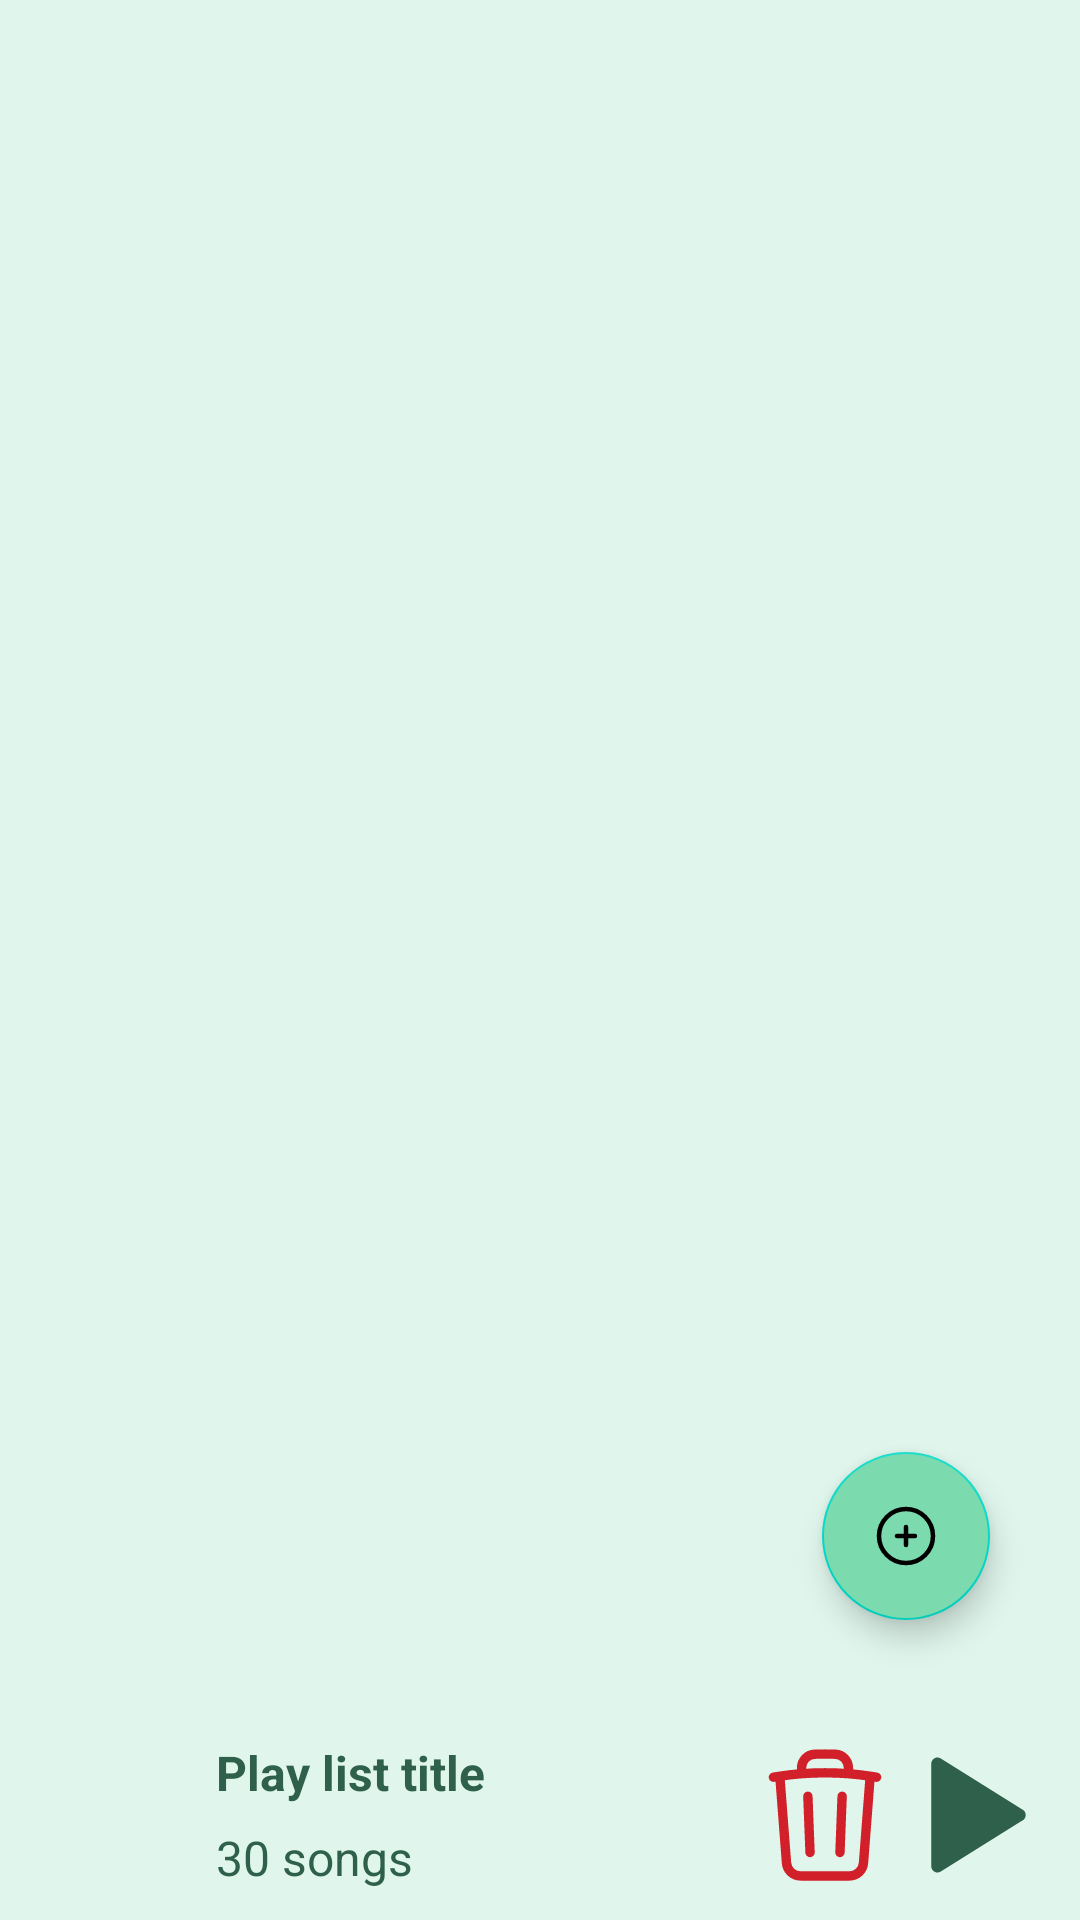

Where to tap for icons on this 1080x1920 app screen, as (x=x, y=y):
delete: (x=825, y=1815)
play: (x=978, y=1815)
plus: (x=906, y=1536)
